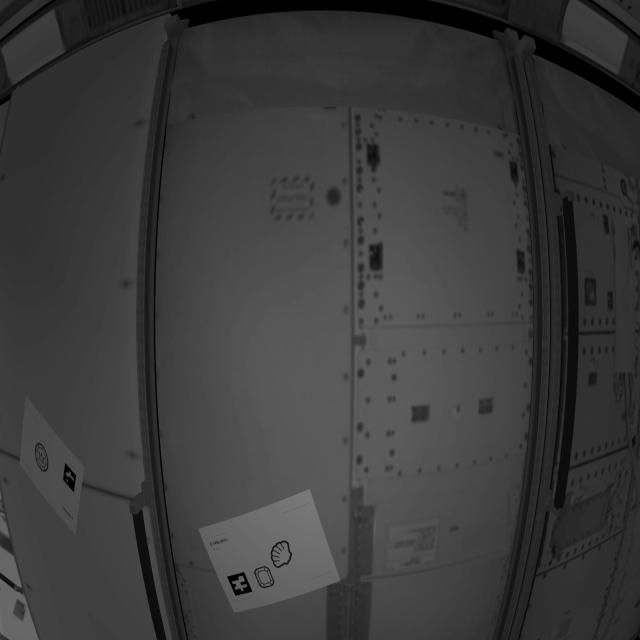coin: (33, 438, 55, 479)
emerald: (255, 568, 280, 593)
shell: (270, 538, 297, 571)
